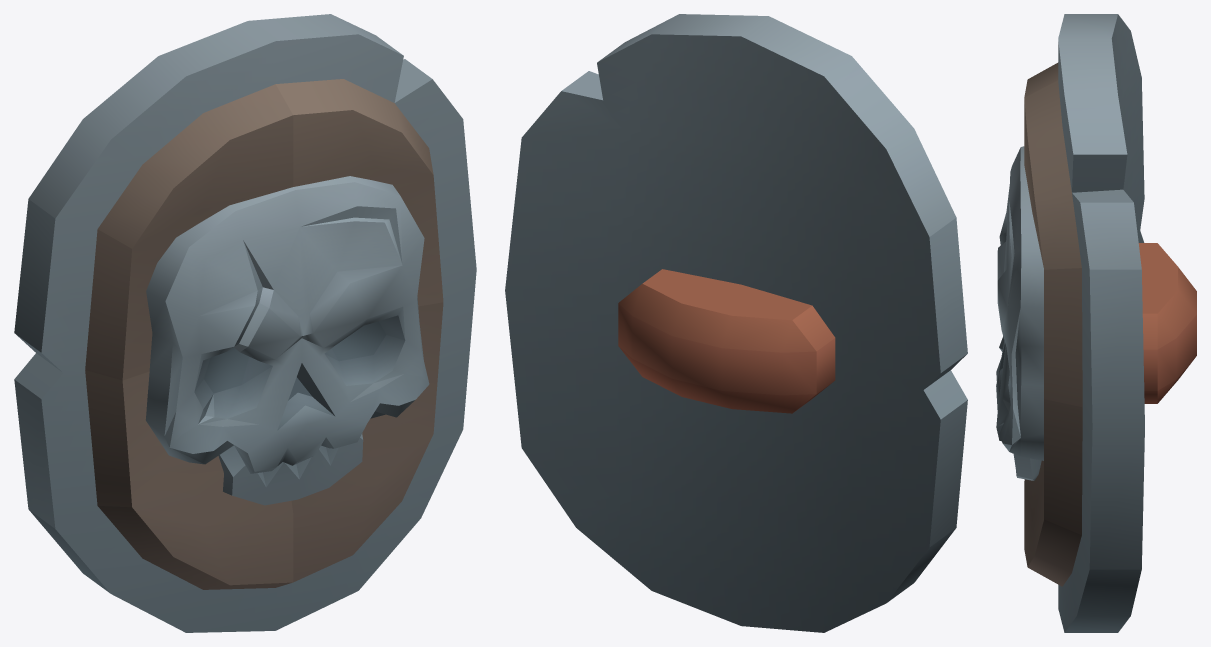
The model's file is Skeleton_Shield_Large_A.fbx.
3 renders of one model, left to right at view 1: azimuth 30°, elevation 25°; view 2: azimuth 150°, elevation 25°; view 3: azimuth 270°, elevation 25°, orthographic. The views are drawn at different scales.
Visible parts, largest first — view 1: Skeleton_Shield_Large_A; view 2: Skeleton_Shield_Large_A; view 3: Skeleton_Shield_Large_A.
Part boxes in pixels (x1=…): Skeleton_Shield_Large_A: x1=14, y1=14, x2=476, y2=632; Skeleton_Shield_Large_A: x1=505, y1=14, x2=967, y2=632; Skeleton_Shield_Large_A: x1=996, y1=14, x2=1196, y2=632.
Bounding box in the file's own units: 0.8771 × 1.13 × 0.3625.
